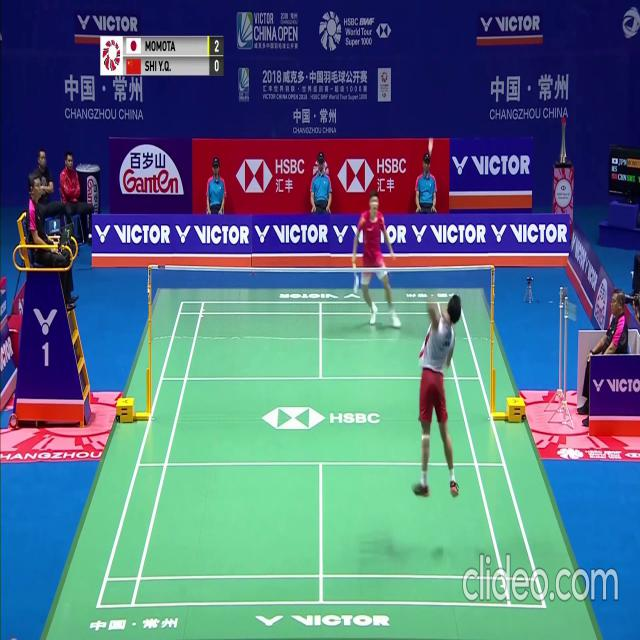Shuttlecock: (428, 150, 432, 158)
